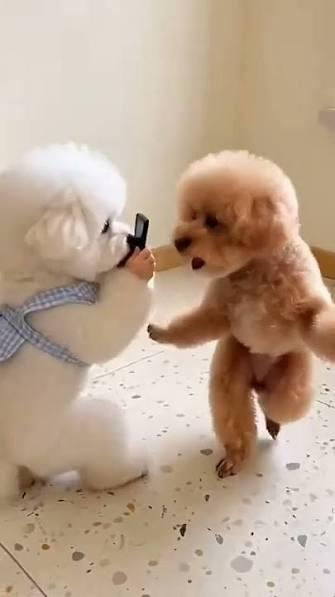adult_dog: (143, 151, 335, 479), (0, 142, 158, 505)
